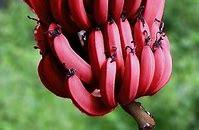banana: (39, 24, 177, 109), (26, 0, 175, 38)
